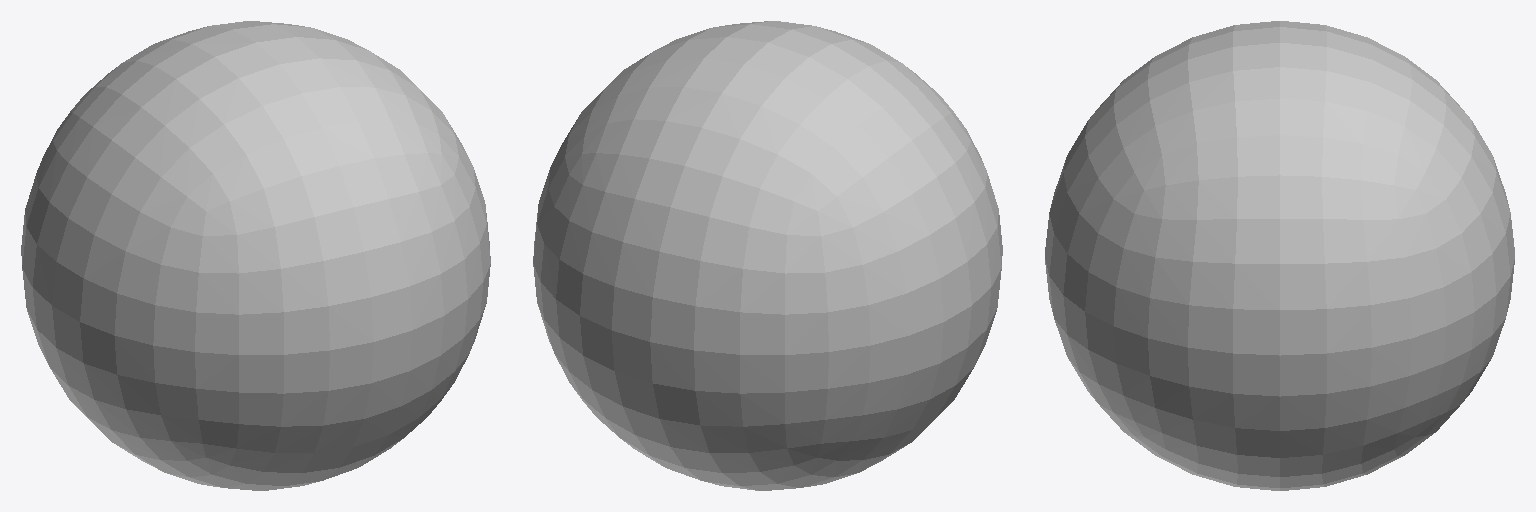
Rendered from bb8_body.obj.
The picture shows the model from 3 angles: view 1: azimuth 30°, elevation 25°; view 2: azimuth 150°, elevation 25°; view 3: azimuth 270°, elevation 25°; orthographic projection.
Parts seen in each view (by area): view 1: BB8_Body_BB-starwars.obj.001; view 2: BB8_Body_BB-starwars.obj.001; view 3: BB8_Body_BB-starwars.obj.001.
Boxes of the visible parts, x1,y1,x2,y2 form: BB8_Body_BB-starwars.obj.001: [21, 21, 490, 490]; BB8_Body_BB-starwars.obj.001: [533, 21, 1002, 490]; BB8_Body_BB-starwars.obj.001: [1045, 21, 1514, 490].
Size of the model in its own units: 5.88 by 5.88 by 5.88.